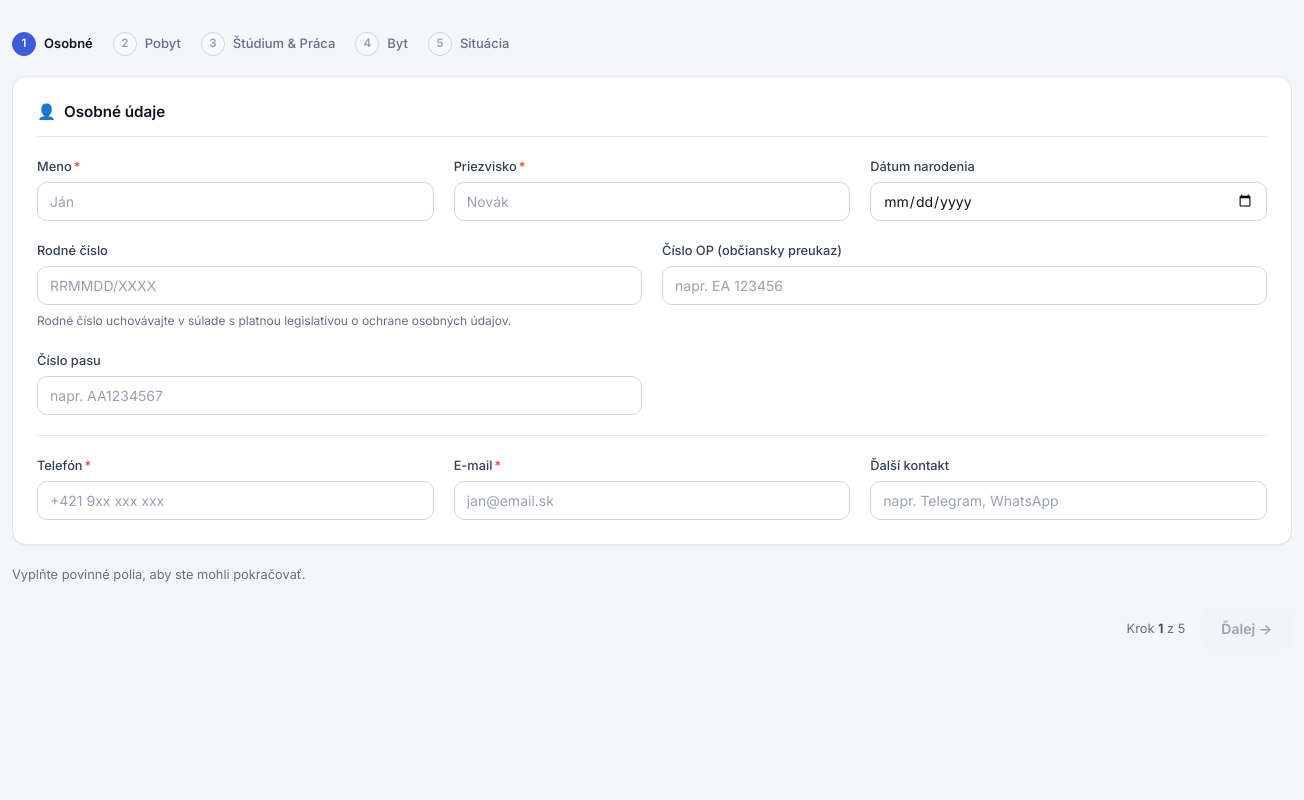
Test case: TenantForm (Sprint 3.1–3.3) › advances to step 2 and keeps step 1's answers when going back
Type "Mária" into the field labelled "Meno*" at (235, 202), box [37, 182, 434, 221]
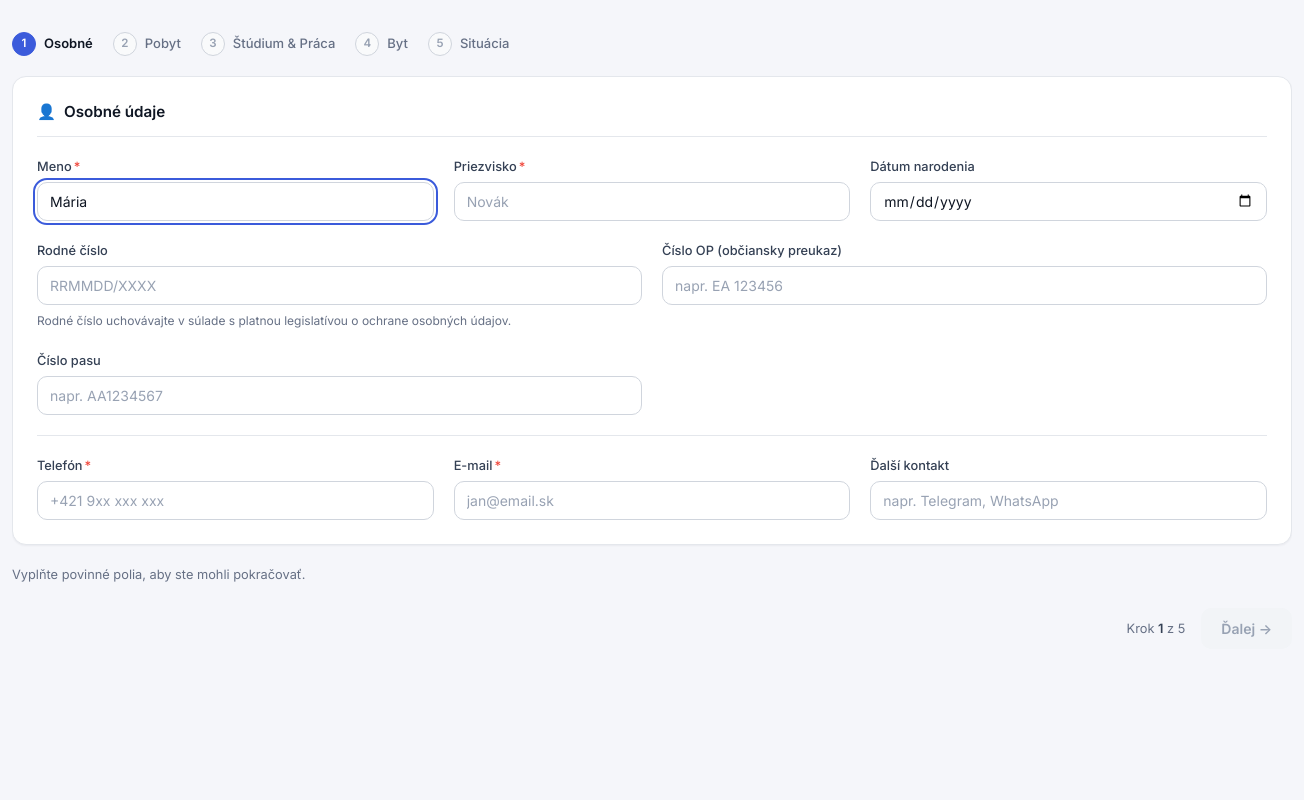
Type "Kováčová" into the field labelled "Priezvisko*" at (652, 202), box [454, 182, 850, 221]
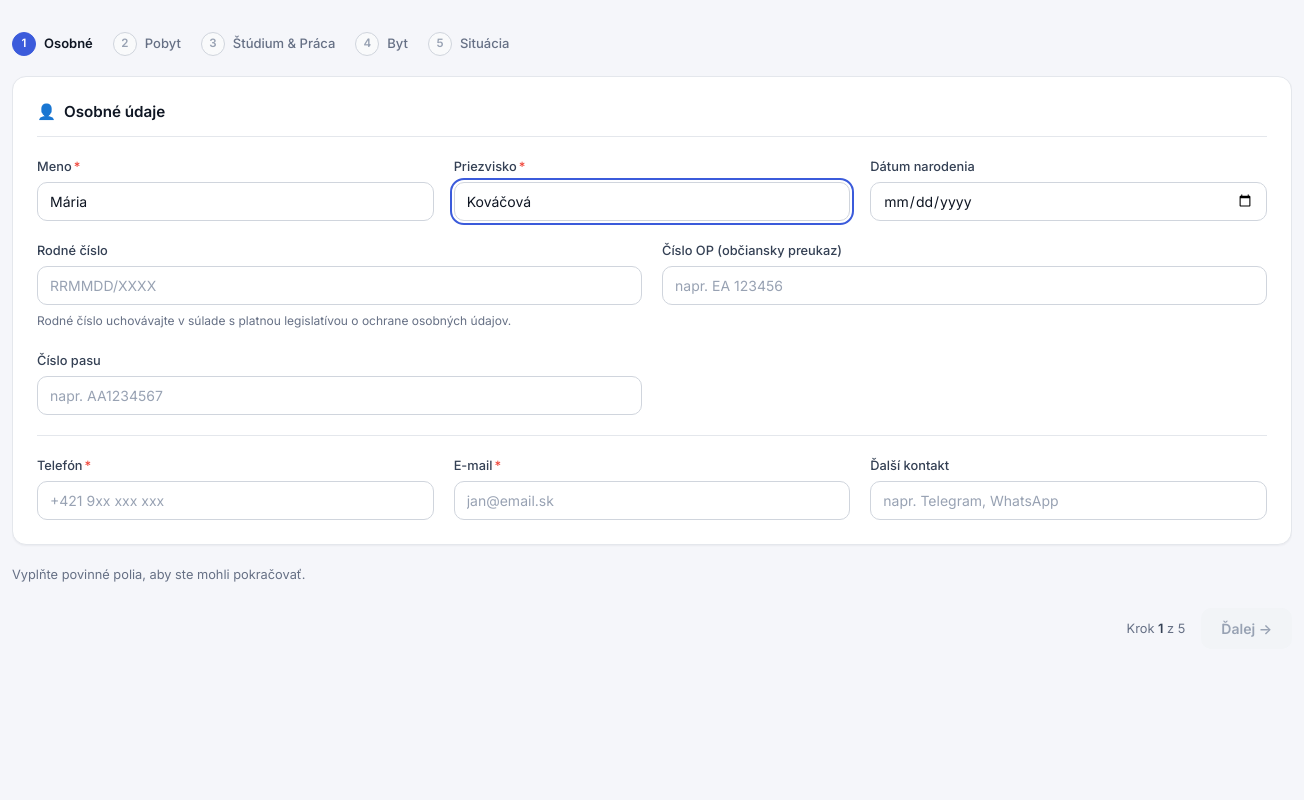
Type "+421900111222" into the field labelled "Telefón*" at (235, 500), box [37, 481, 434, 520]
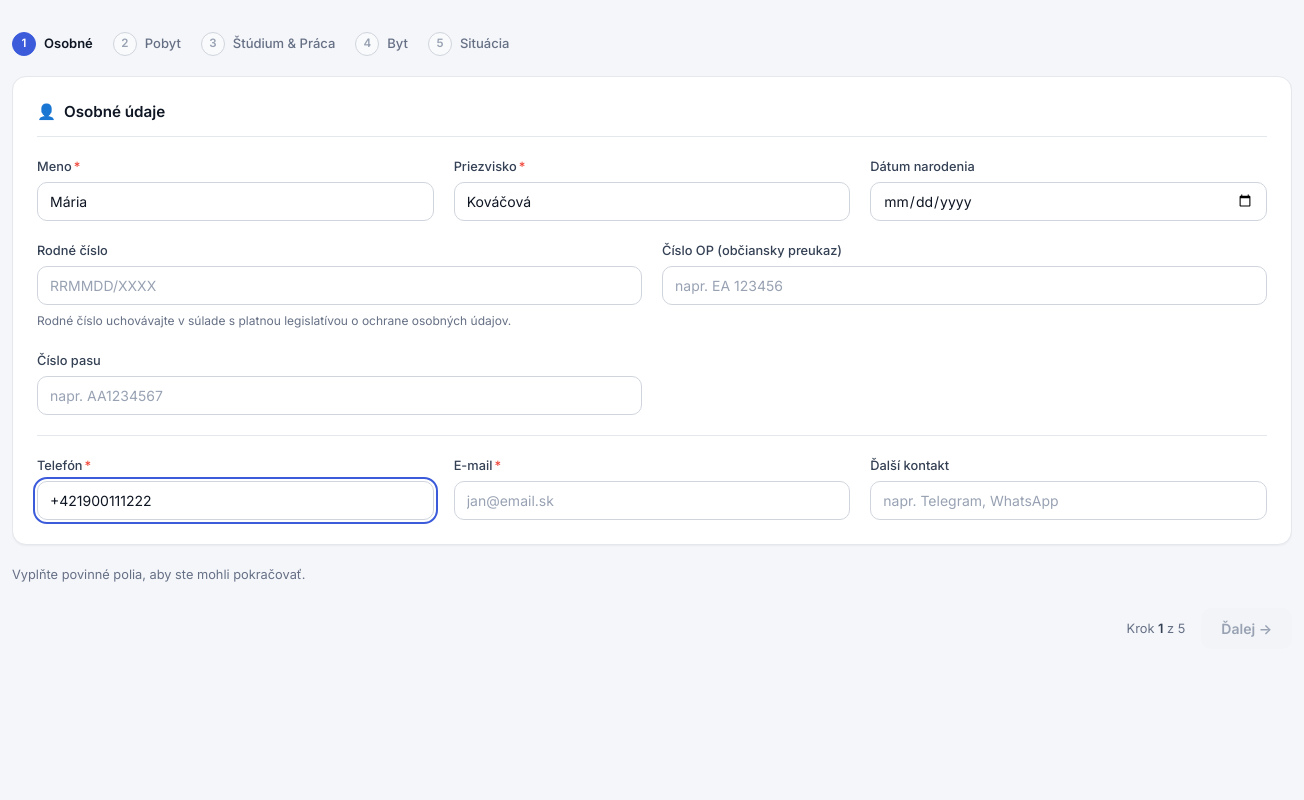
Type "maria@example.com" into the field labelled "E-mail*" at (652, 500), box [454, 481, 850, 520]
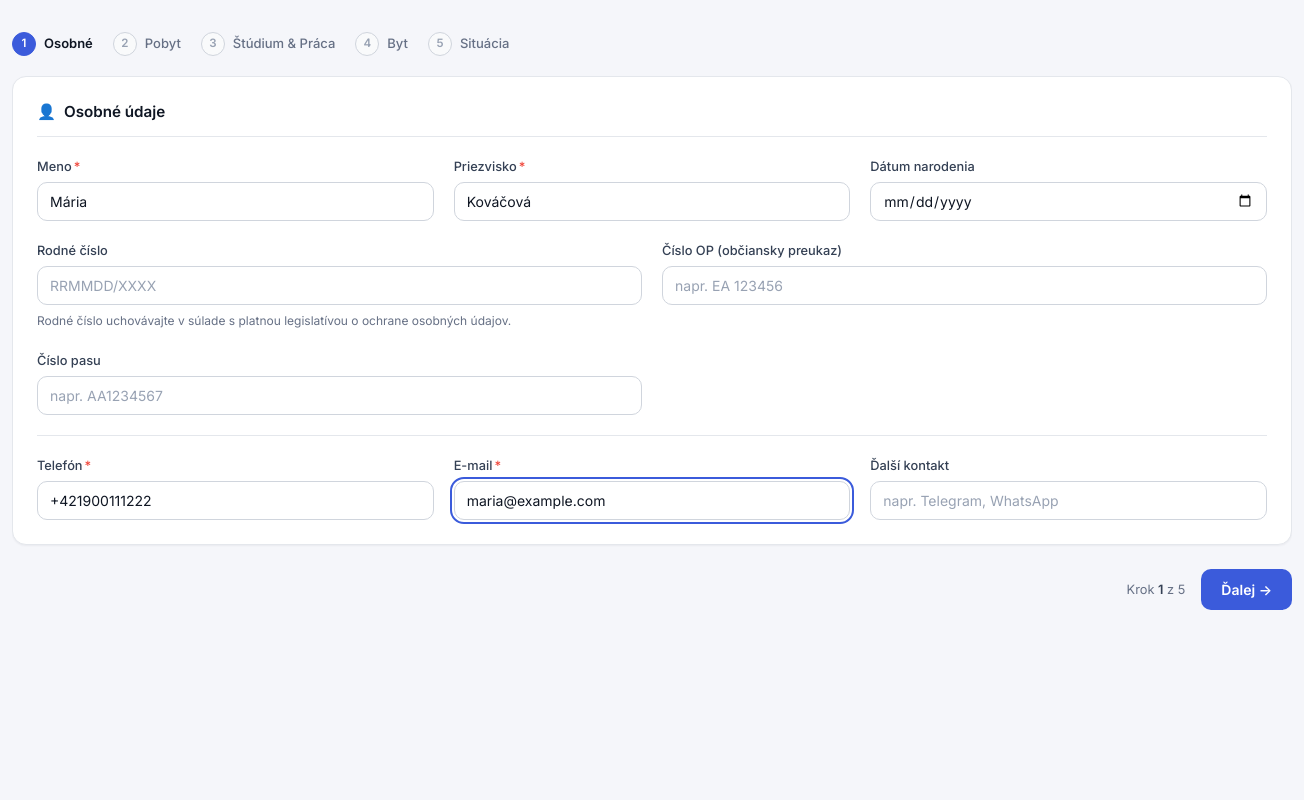
Click the button "Ďalej →" at (1247, 590), box [1201, 569, 1292, 610]
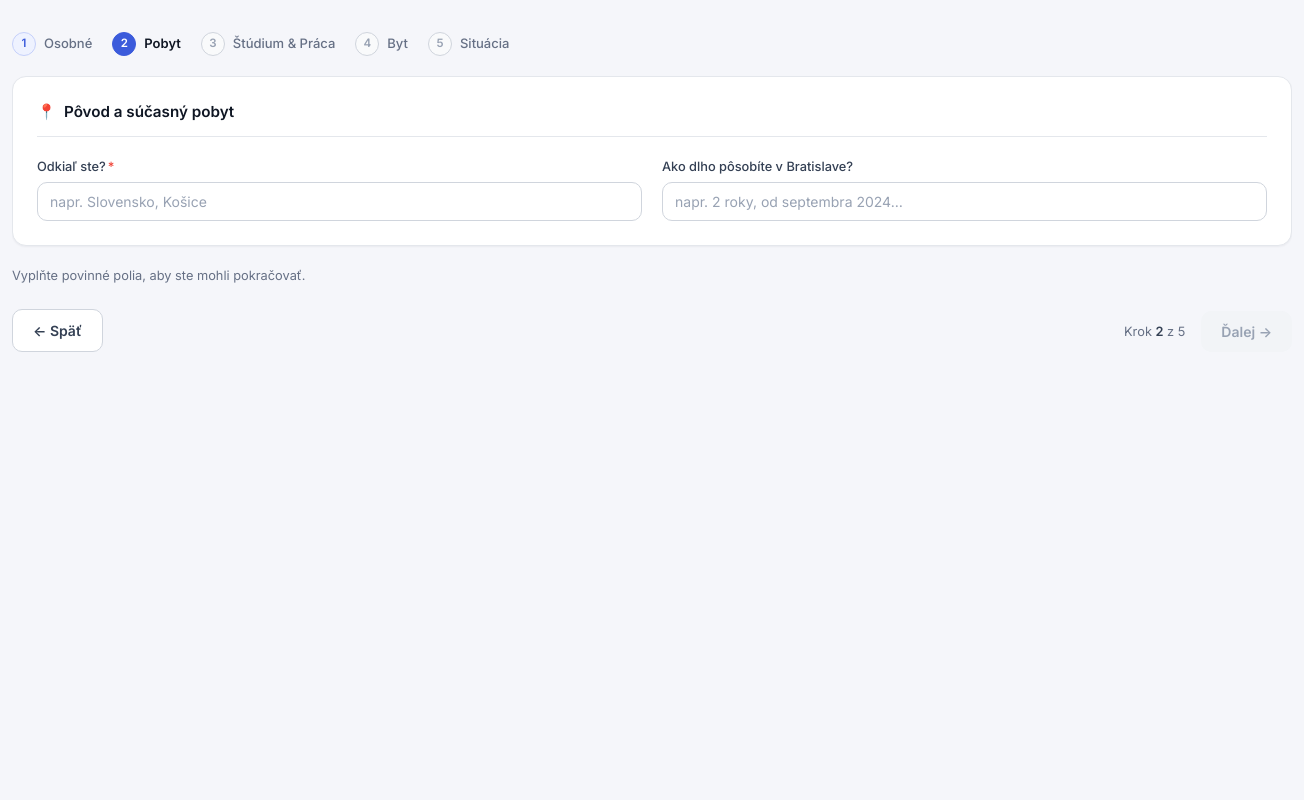
Expected: the heading "📍 Pôvod a súčasný pobyt" is shown, [37, 101, 1267, 137]
Click the button "← Späť" at (57, 331), box [12, 309, 103, 352]
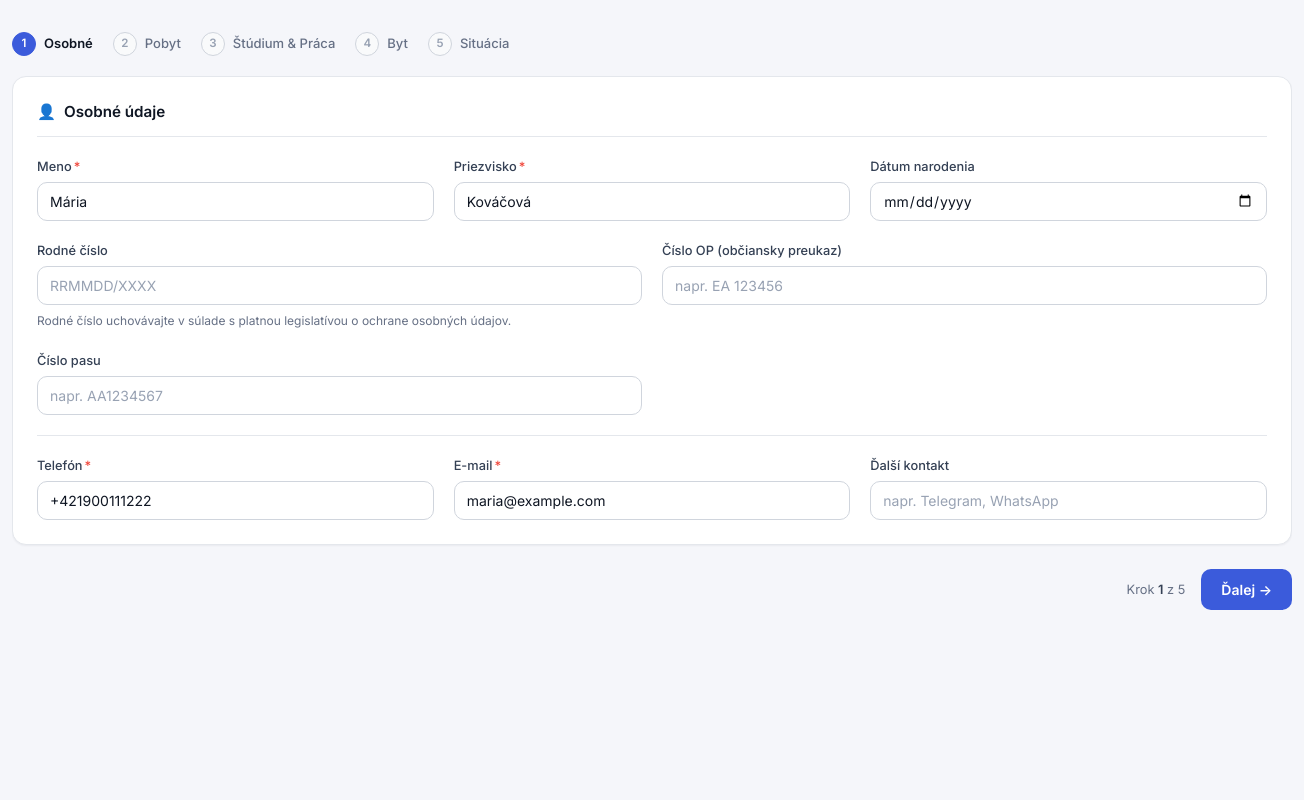
Expected: the field labelled "Meno*" holds "Mária", [37, 182, 434, 221]
